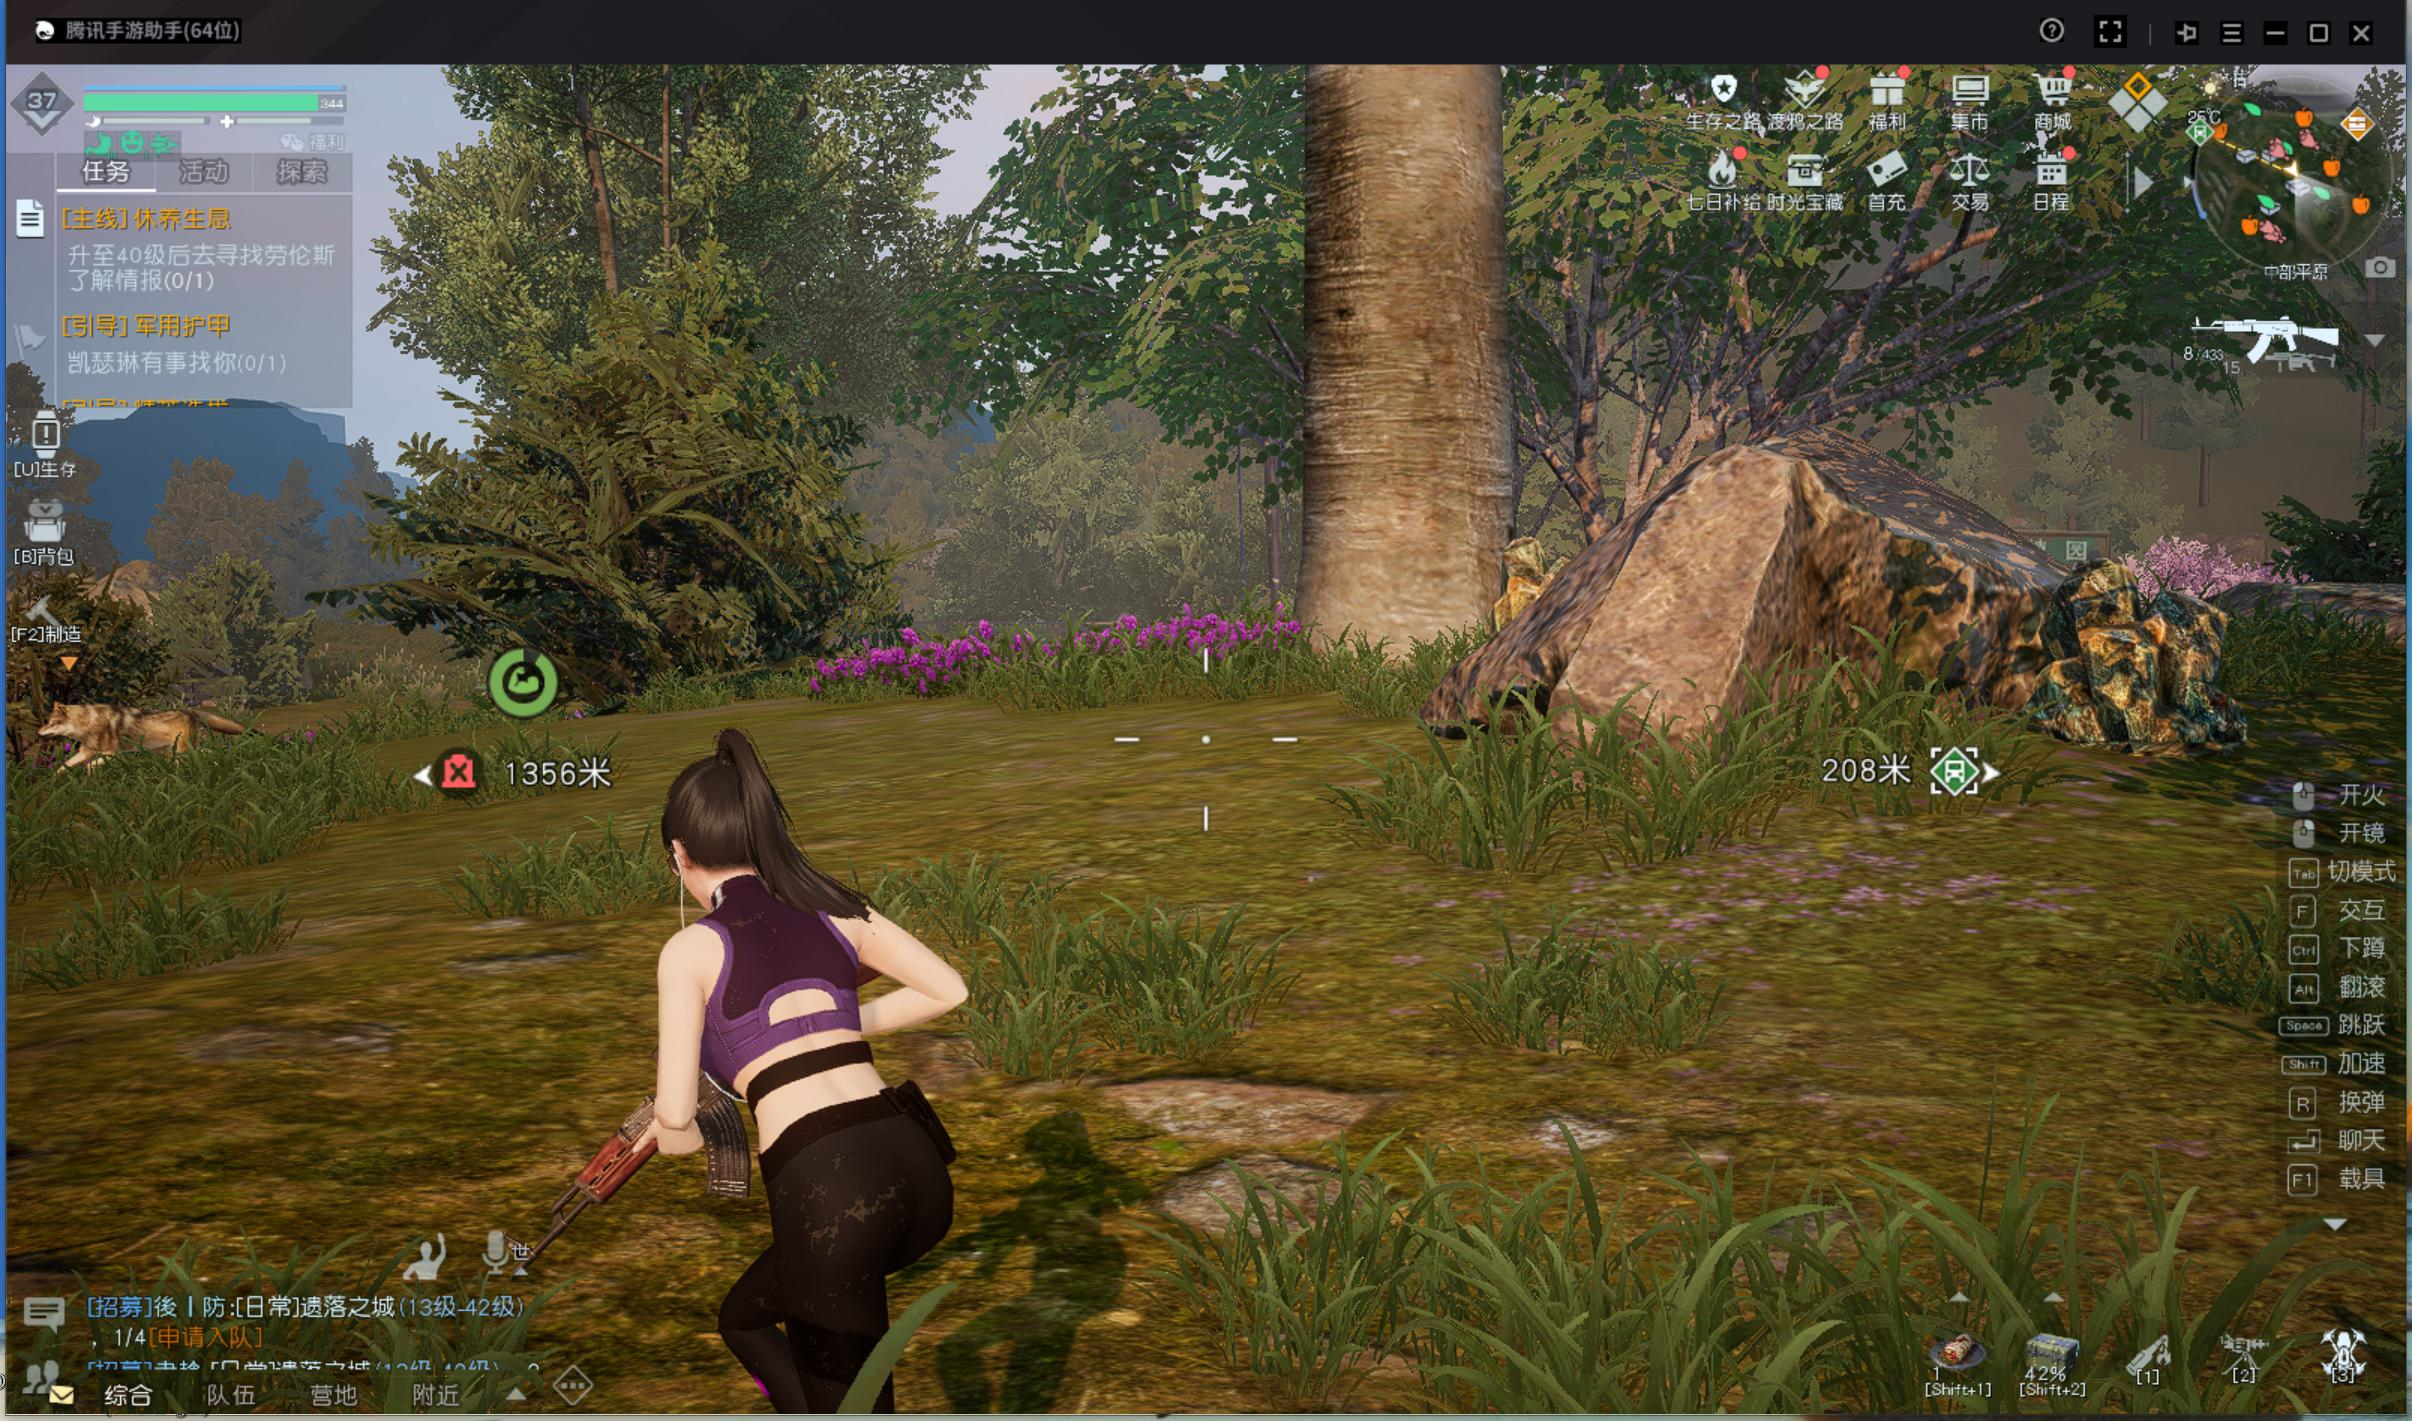stone: (1999, 523, 2258, 778)
tree: (1279, 157, 1539, 673)
